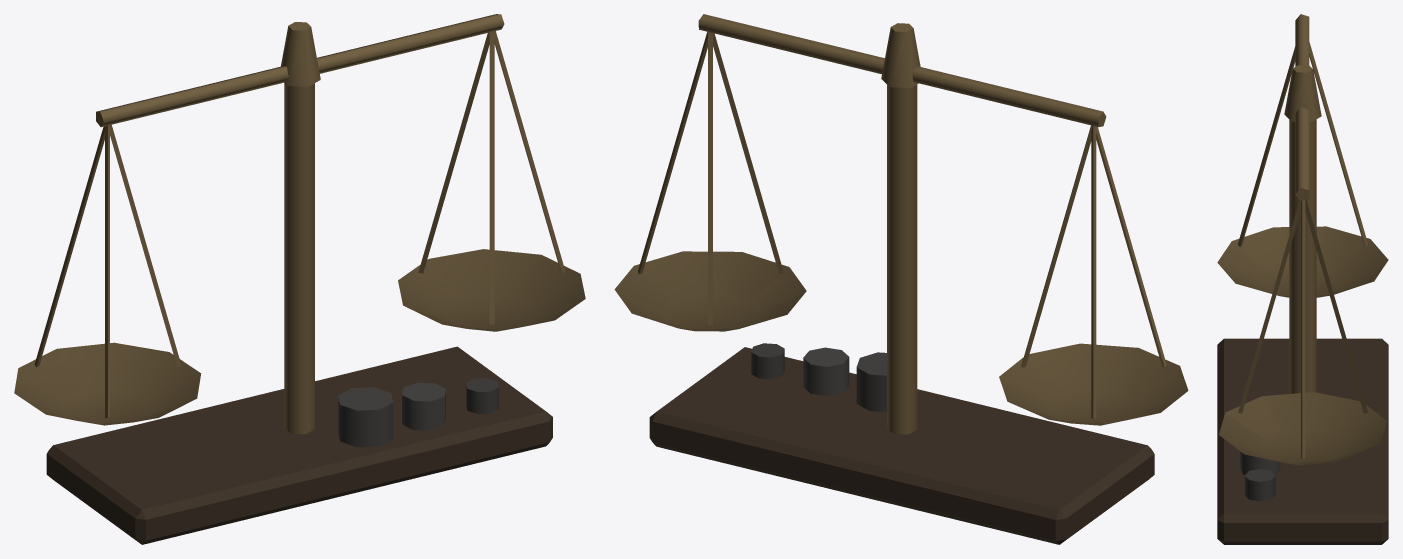
File: balanza.glb
The picture shows the model from 3 angles, left to right: view 1: azimuth 30°, elevation 25°; view 2: azimuth 150°, elevation 25°; view 3: azimuth 270°, elevation 25°; orthographic projection. The views are drawn at different scales.
Parts seen in each view (by area): view 1: Balanza; view 2: Balanza; view 3: Balanza.
Part boxes in pixels (x1=…): Balanza: x1=14, y1=14, x2=585, y2=544; Balanza: x1=614, y1=14, x2=1188, y2=544; Balanza: x1=1217, y1=14, x2=1388, y2=544.
Bounding box in the file's own units: 0.6554 × 0.5 × 0.2.
